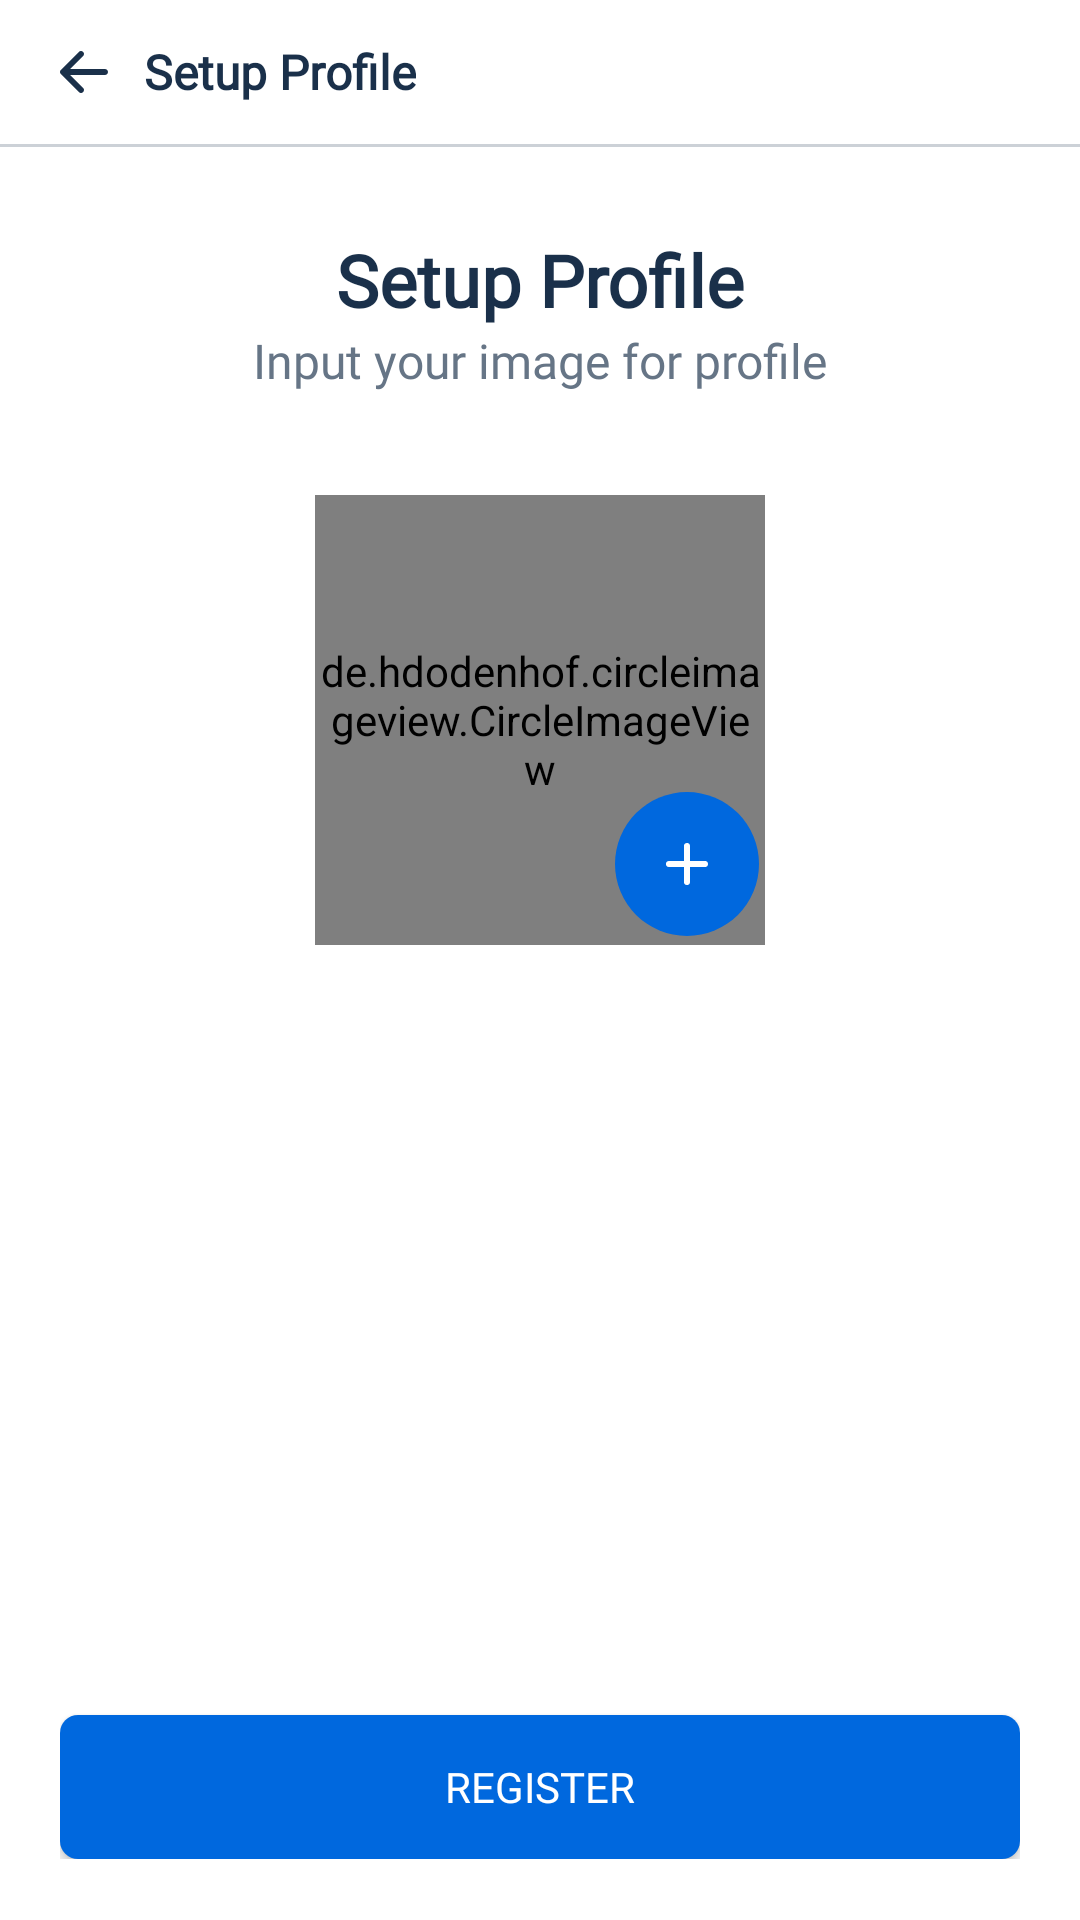

Locate icon controls on the screen. Image size 1080 x 1920, boxes as (x1, y1, x2, y2).
back: (60, 51, 108, 93)
upload plus: (615, 792, 759, 936)
